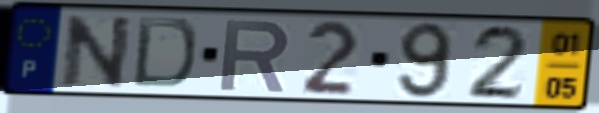2: (465, 23, 534, 102), (300, 18, 364, 98)
9: (394, 20, 459, 102)
D: (129, 14, 200, 92)
N: (59, 13, 136, 90)
R: (217, 17, 294, 94)
